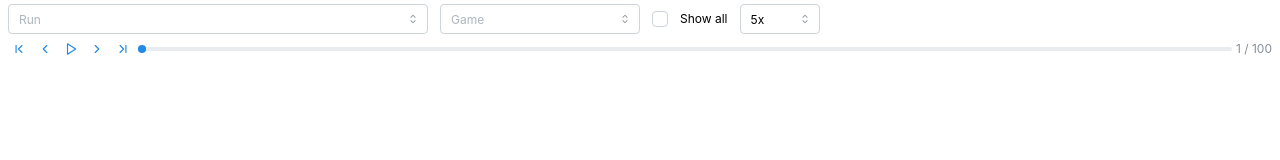
Scenario: TransportBar (autoFollow mode) › togglePlay is independent of autoFollow
This screenshot has width=1280, height=160.
Click the button named "Play" at (71, 49), box [60,38,82,60]
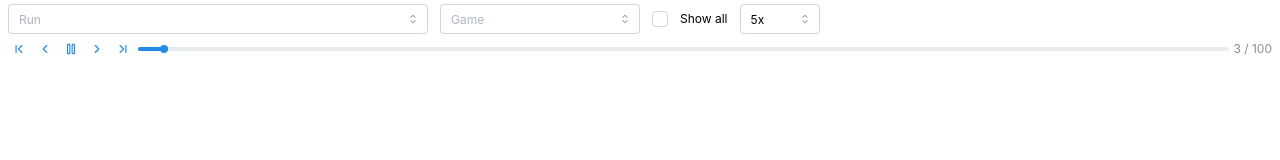
Expected: the button named "Pause" is shown, [60,38,82,60]
